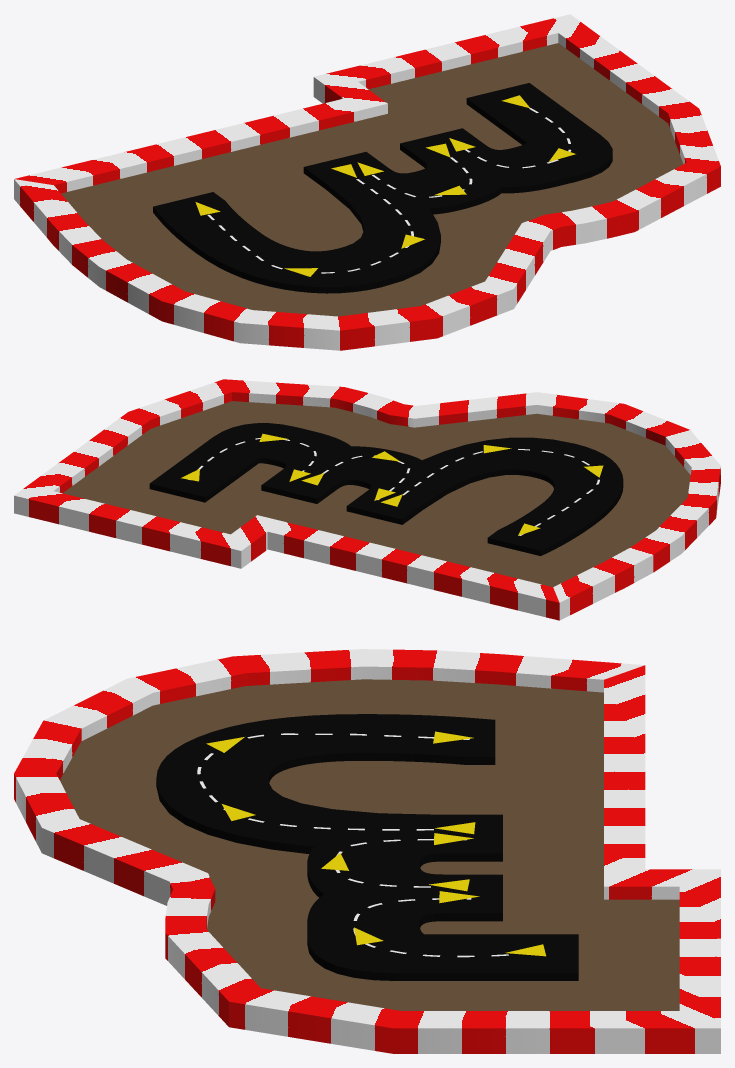
File: seen.FBX
The picture shows the model from 3 angles, top to bottom: view 1: azimuth 30°, elevation 25°; view 2: azimuth 150°, elevation 25°; view 3: azimuth 270°, elevation 25°; orthographic projection. The views are drawn at different scales.
Visible parts, largest first — view 1: sin_floor, sin_coll, sin; view 2: sin_floor, sin_coll, sin; view 3: sin_floor, sin_coll, sin.
Part boxes in pixels (left/top/right/bottom): sin_floor: left=61, top=43, right=683, bottom=316; sin_coll: left=14, top=14, right=720, bottom=350; sin: left=153, top=83, right=612, bottom=293; sin_floor: left=63, top=401, right=690, bottom=586; sin_coll: left=14, top=379, right=720, bottom=620; sin: left=149, top=423, right=623, bottom=555; sin_floor: left=60, top=679, right=679, bottom=1010; sin_coll: left=14, top=649, right=720, bottom=1053; sin: left=156, top=714, right=578, bottom=980.
Size of the model in its own units: 1043 by 32.77 by 822.
